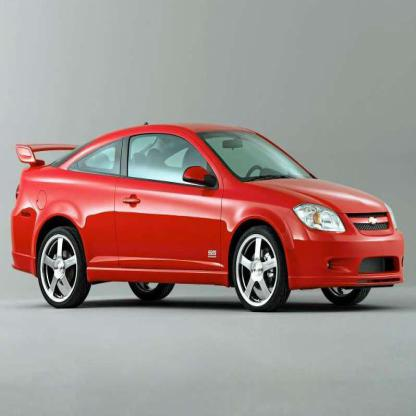Vehicle: (9, 121, 407, 310)
